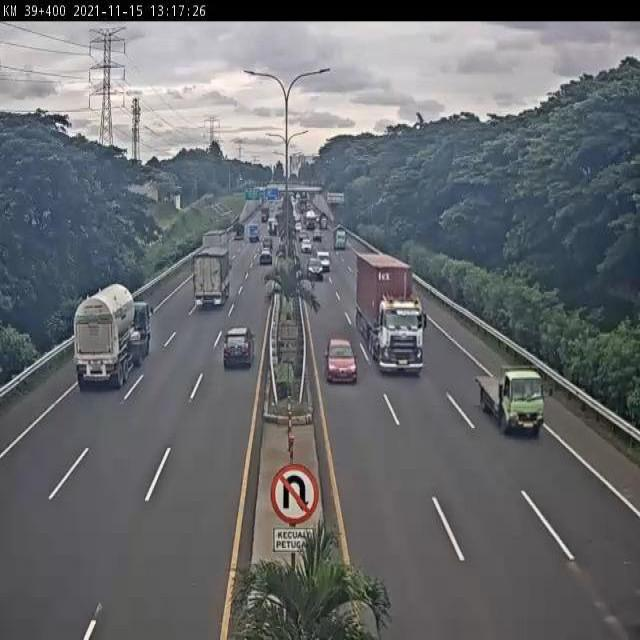big truck: (356, 256, 424, 371)
bus-s-: (317, 250, 332, 270)
car: (322, 336, 361, 389), (223, 327, 257, 372), (306, 257, 325, 280)
truck-l-: (74, 284, 154, 392)
truck-m-: (192, 247, 232, 309)
truck-s-: (478, 361, 546, 436)
